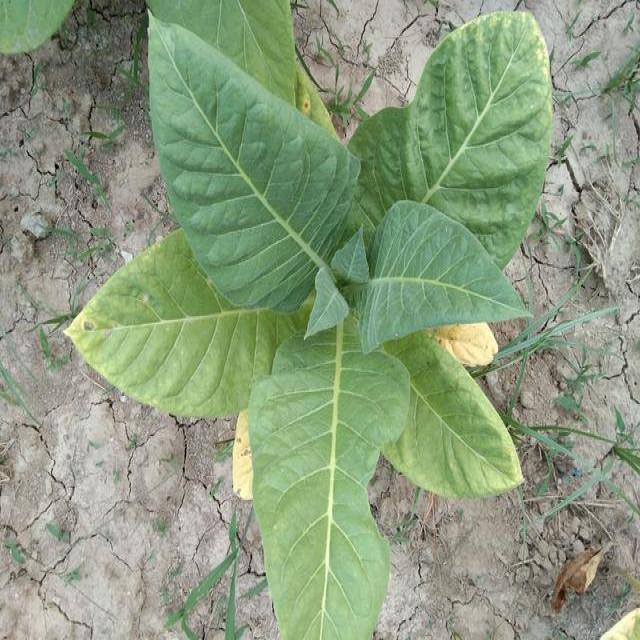crop: (66, 11, 553, 640)
